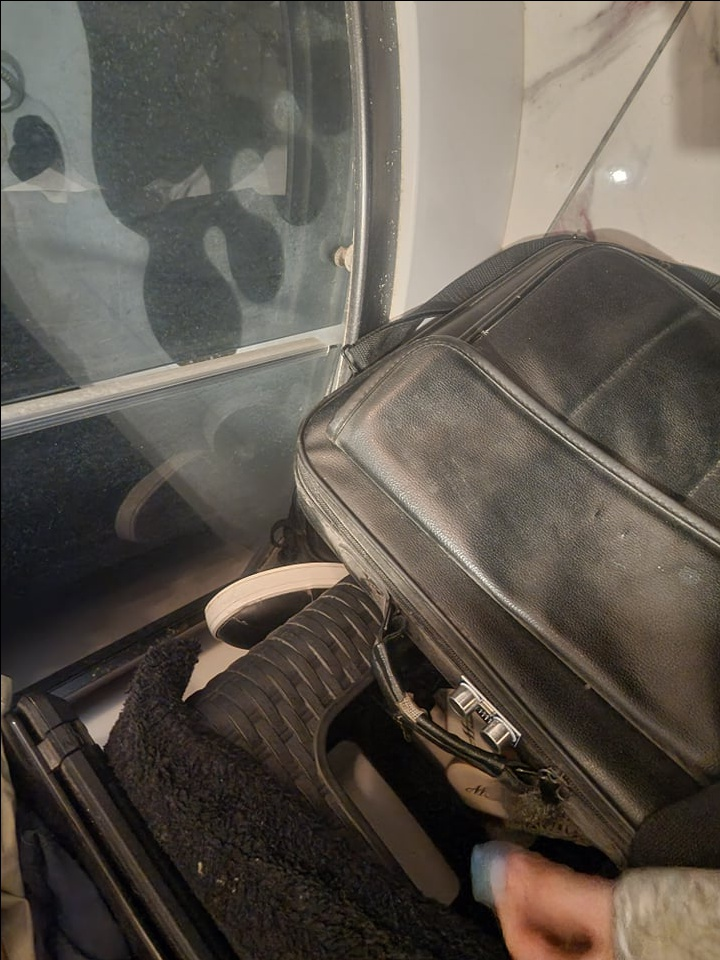SENSOR: (444, 667, 517, 758)
